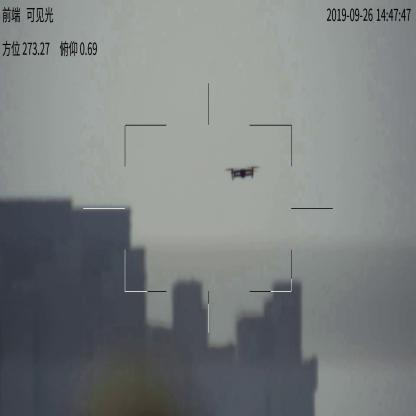uav: (224, 163, 259, 181)
